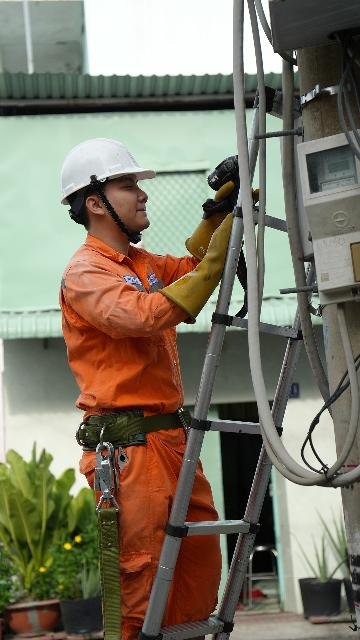gloves: (179, 212, 241, 323), (179, 178, 239, 261)
harness: (67, 388, 200, 456)
helmet: (53, 131, 157, 214)
